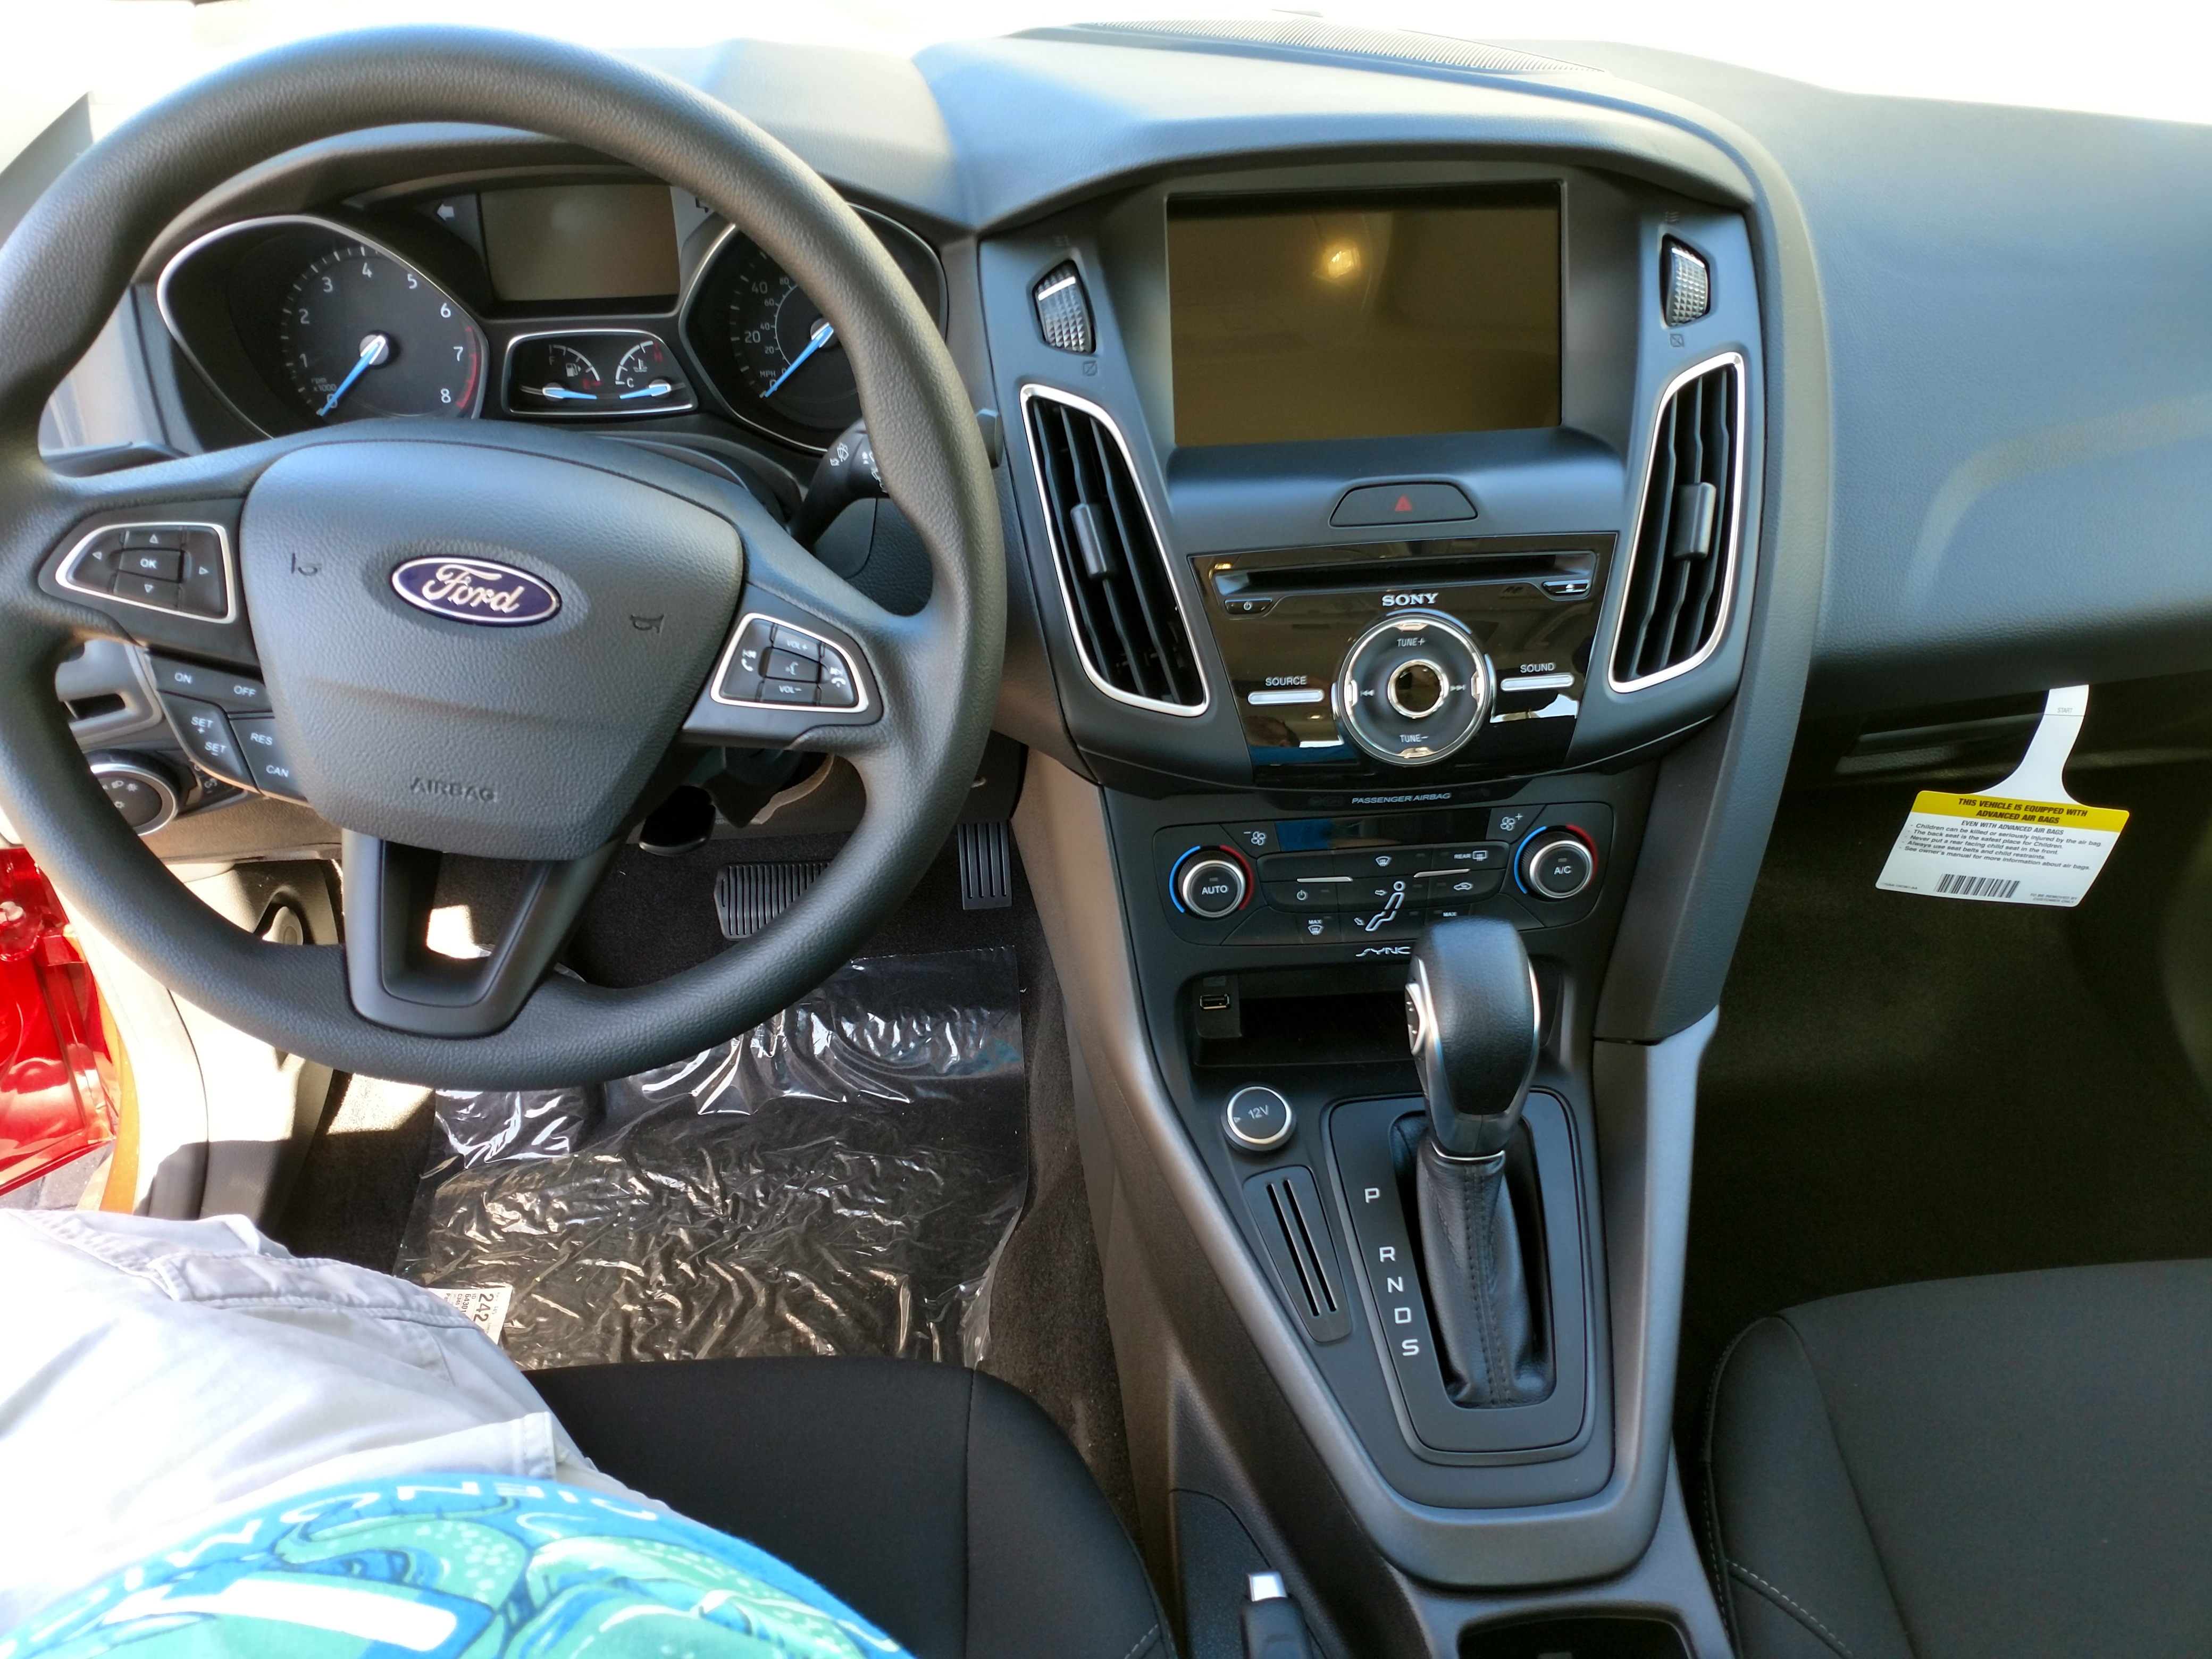Ford: (380, 542, 577, 641)
